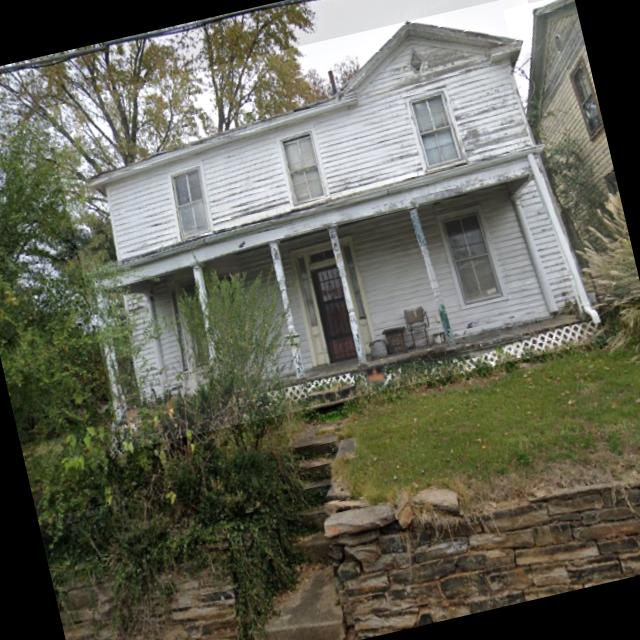House: (43, 0, 605, 450), (502, 0, 640, 311)
